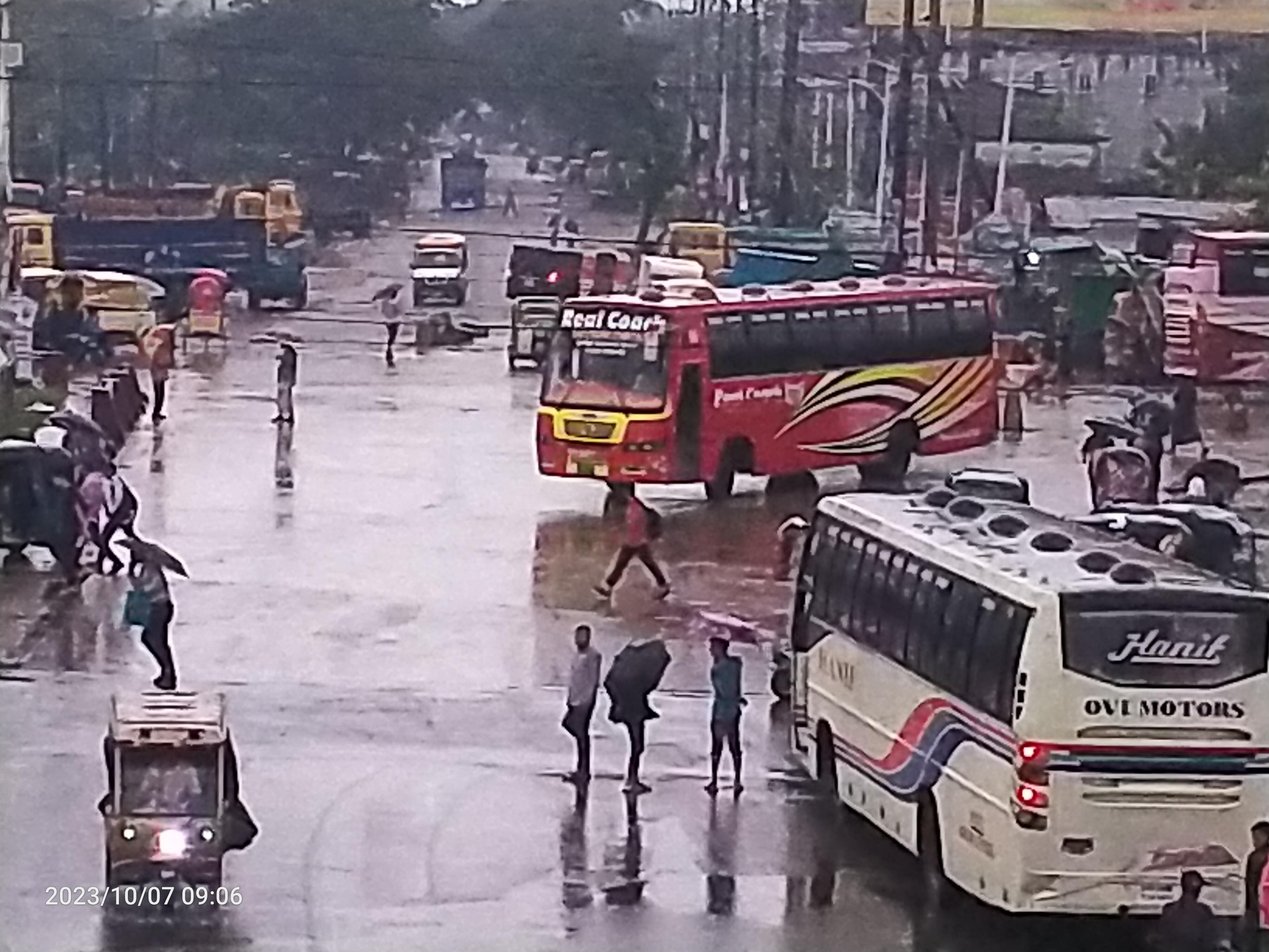Bus: (757, 473, 1269, 952), (506, 260, 1026, 521), (1148, 204, 1269, 418)
Car: (66, 664, 275, 947), (373, 223, 474, 314), (172, 264, 234, 366)
Truck: (0, 192, 270, 296), (651, 202, 858, 284), (420, 142, 498, 229)
